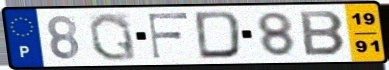8: (253, 10, 298, 57), (46, 14, 82, 61)
B: (297, 9, 349, 58)
D: (193, 9, 244, 61)
F: (146, 11, 191, 61)
Q: (86, 11, 139, 63)
